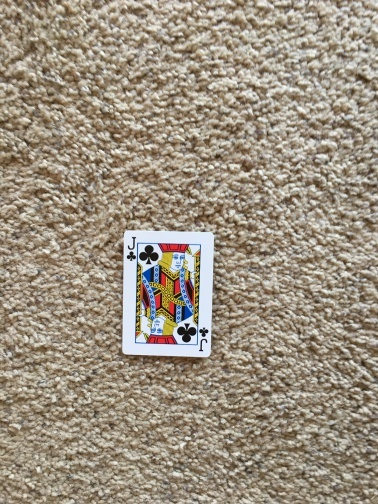jack: (122, 229, 214, 356)
